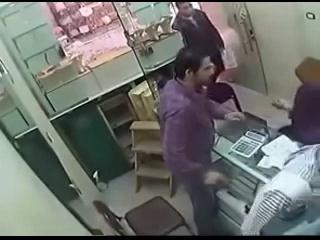Normal: (158, 45, 243, 234), (170, 3, 230, 80), (92, 196, 193, 236)
